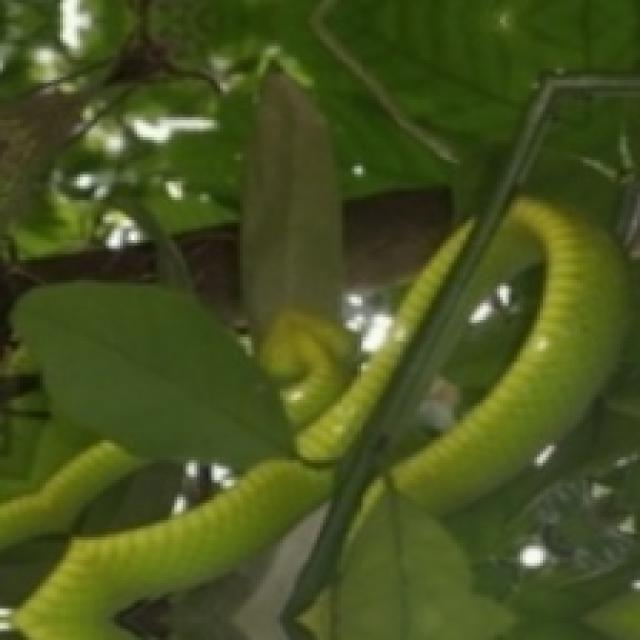north ph temple pitviper: (14, 223, 471, 637), (331, 197, 626, 637)
